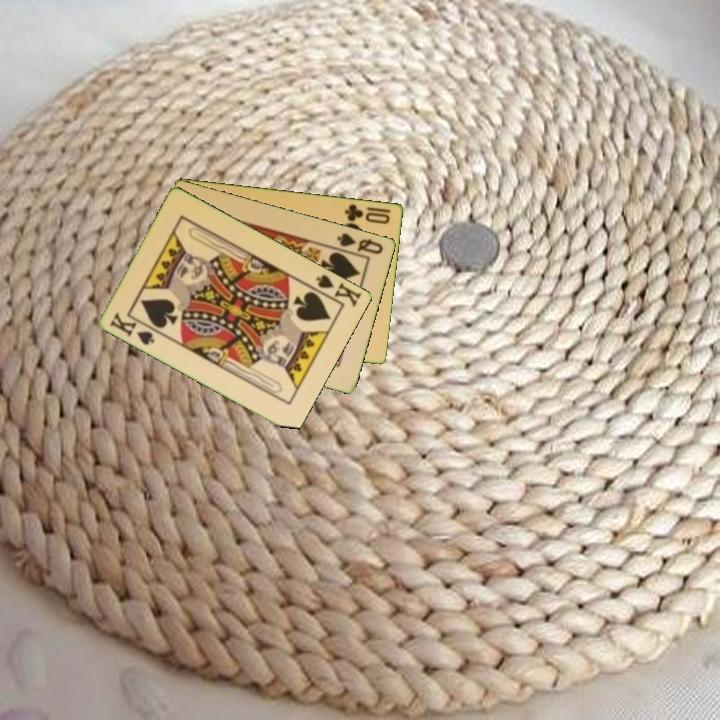10c: (342, 200, 393, 227)
Ks: (308, 271, 365, 310), (106, 308, 158, 348)
Qs: (334, 229, 386, 257)
